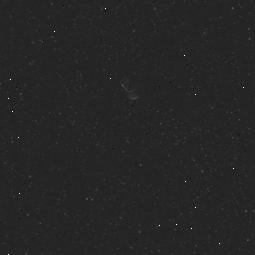debris: (109, 64, 149, 103)
